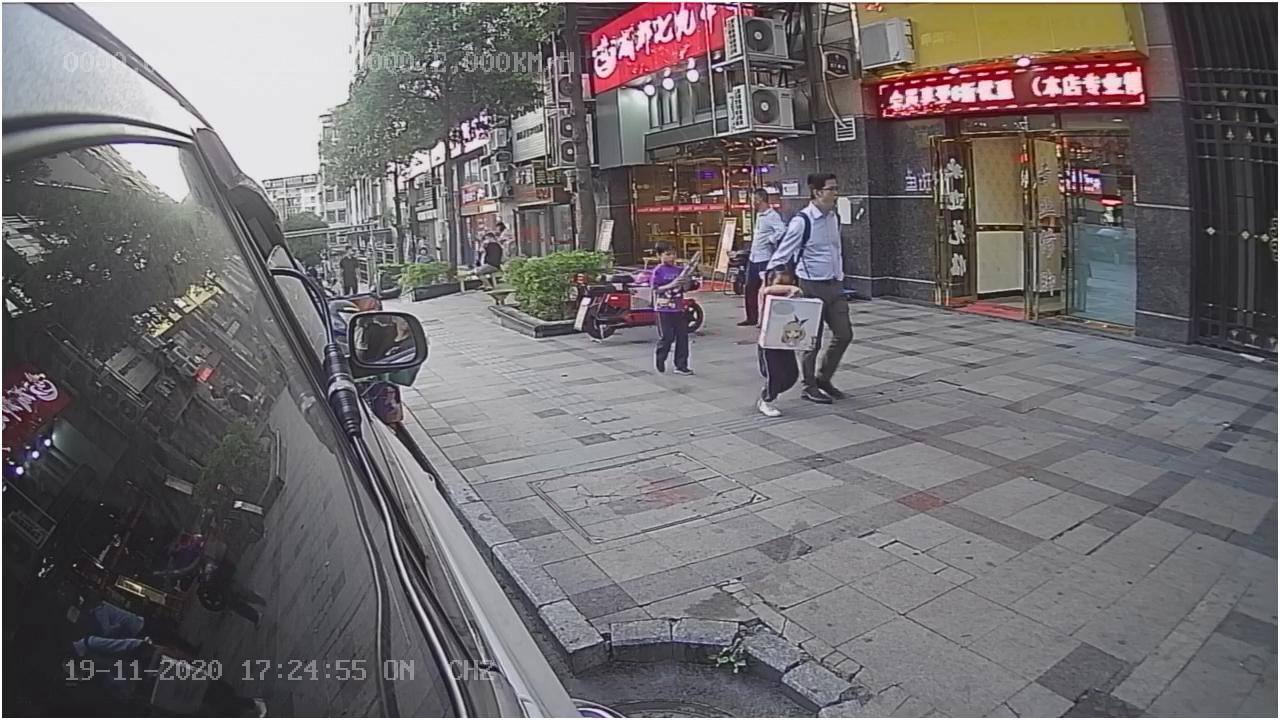person: (780, 170, 849, 286), (643, 238, 699, 309)
